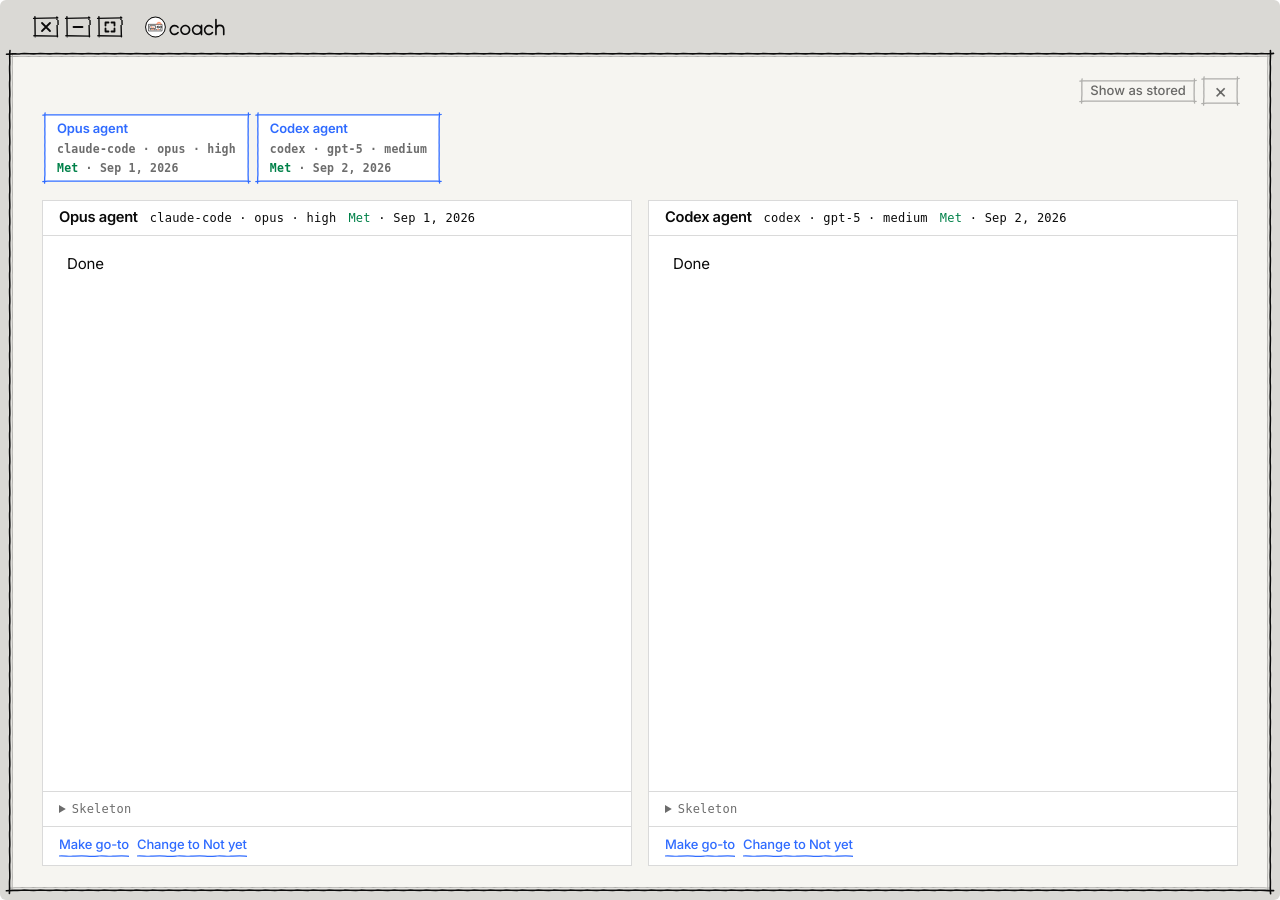
Scenario: CompareView › Close returns to the badge while one handoff has run, with both still picked and focus on Compare
Click the button named "Close" at (1220, 91), box 1203,78 -> 1238,104
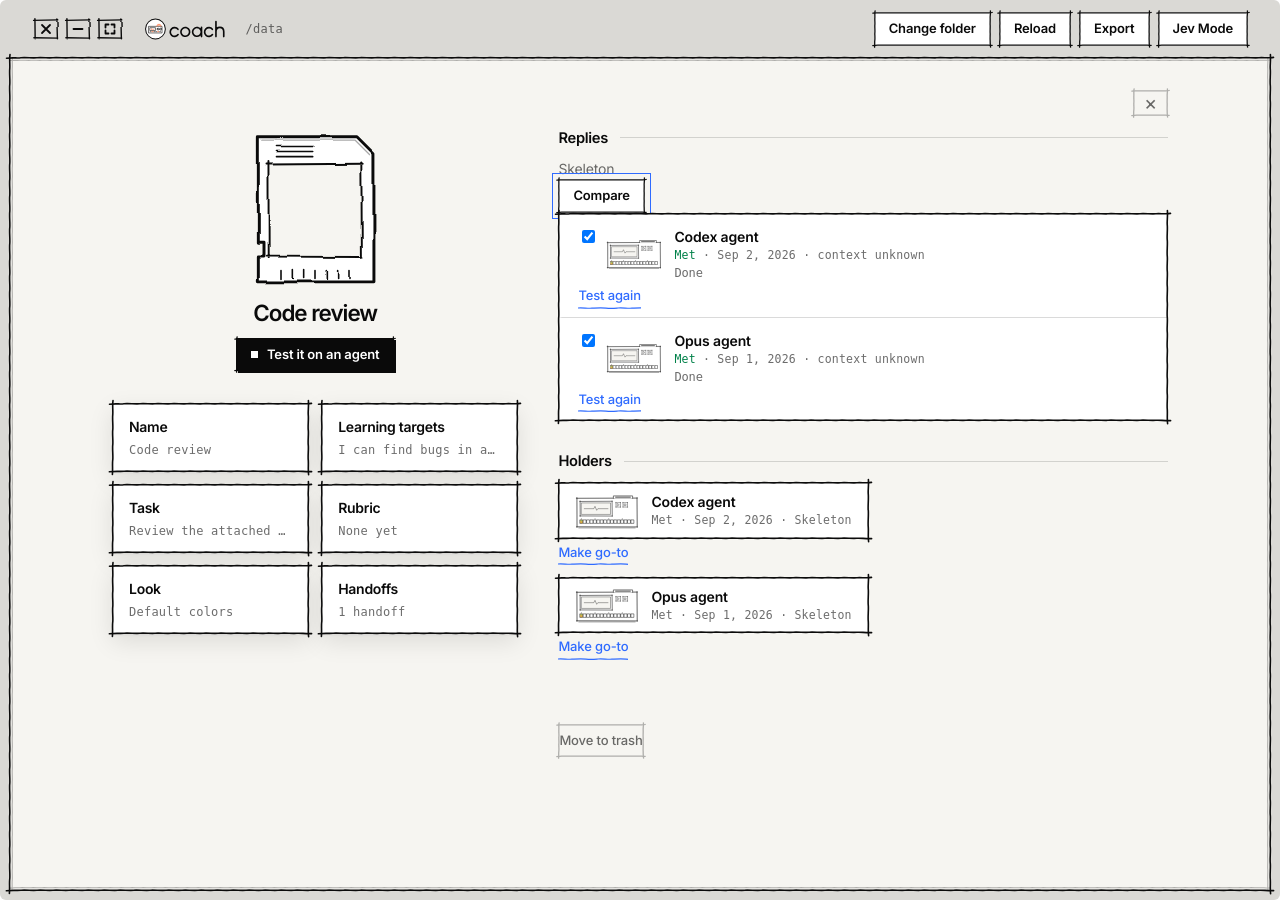
Now the heading "Code review" is shown, box 253,300 -> 377,326
